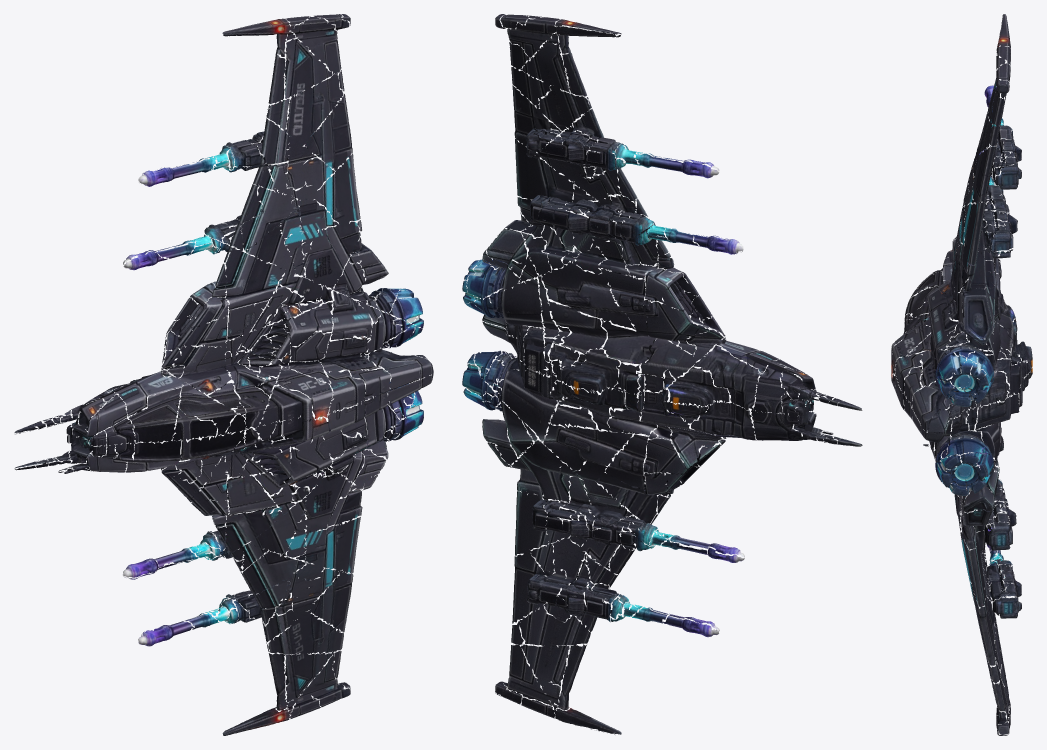
The model's file is void_interceptor.glb.
The picture shows the model from 3 angles, left to right: view 1: azimuth 30°, elevation 25°; view 2: azimuth 150°, elevation 25°; view 3: azimuth 270°, elevation 25°; orthographic projection. The views are drawn at different scales.
Bounding box in the file's own units: 1.12 × 1.91 × 0.3616.
1 material, 1 textured.
